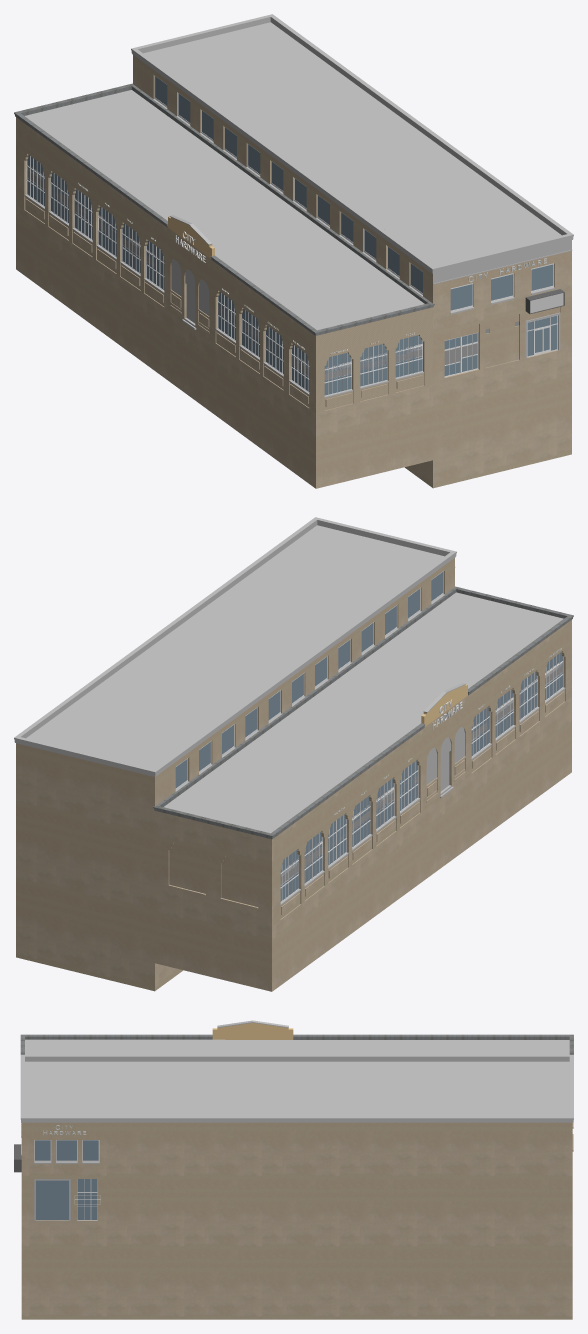
The model's file is A23_Building05.fbx.
3 views of the same model, one above another, from view 1: azimuth 30°, elevation 25°; view 2: azimuth 150°, elevation 25°; view 3: azimuth 270°, elevation 25° (orthographic). The views are drawn at different scales.
Visible parts, largest first — view 1: BD1944, BD1943; view 2: BD1944, BD1943; view 3: BD1943, BD1944.
Boxes of the visible parts, <box> form: BD1944: <box>14,83,434,488</box>; BD1943: <box>131,14,573,488</box>; BD1944: <box>153,586,573,991</box>; BD1943: <box>14,517,456,991</box>; BD1943: <box>14,1055,573,1319</box>; BD1944: <box>20,1020,573,1151</box>.
Bounding box in the file's own units: 17.68 × 14.35 × 36.08.
